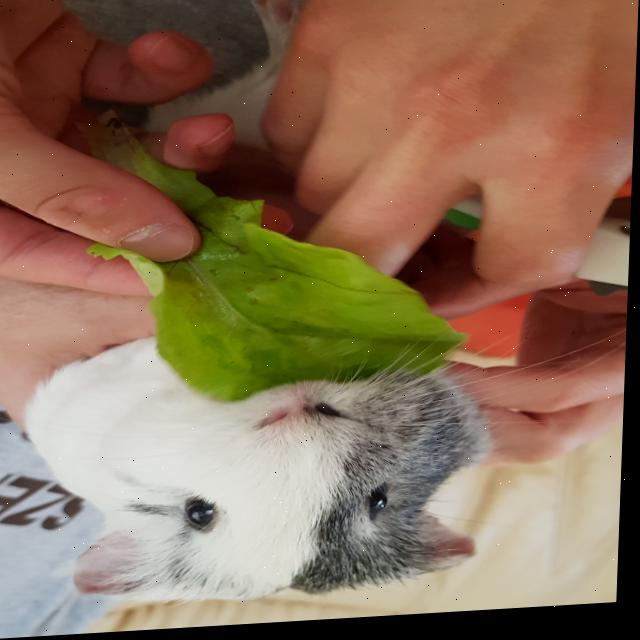guinea pig: (15, 313, 523, 616)
